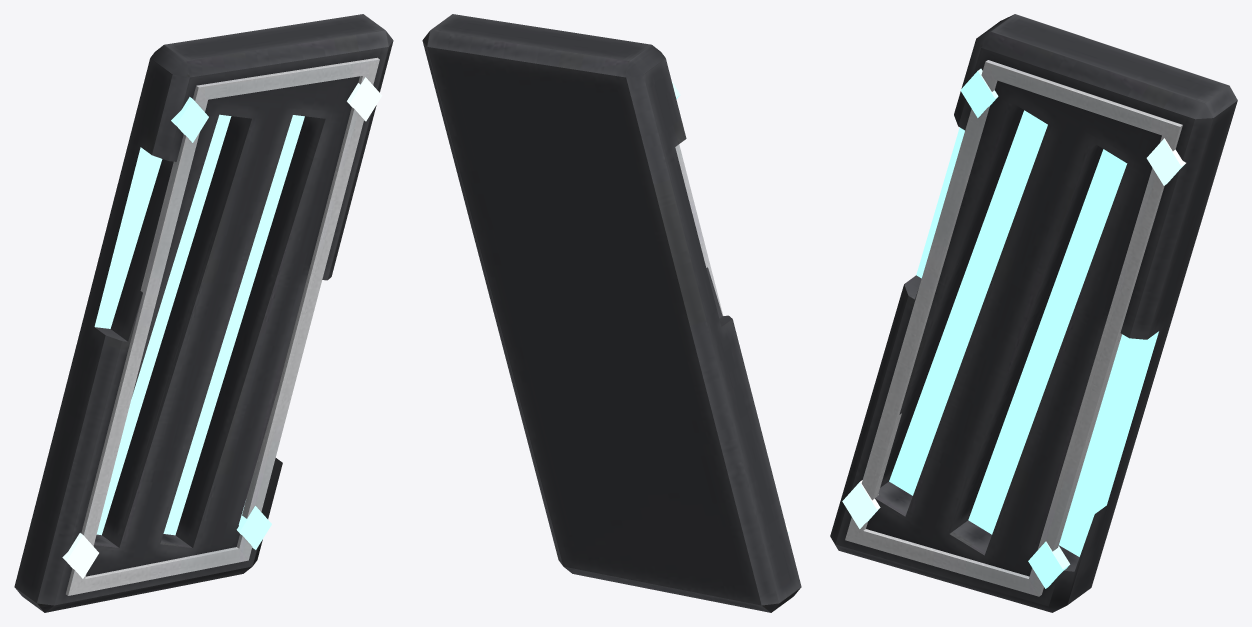
The model's file is wind.glb.
The picture shows the model from 3 angles, left to right: view 1: azimuth 30°, elevation 25°; view 2: azimuth 150°, elevation 25°; view 3: azimuth 330°, elevation 25°; orthographic projection. The views are drawn at different scales.
Visible parts, largest first — view 1: rune_stone, rune_inlay_t3, glow_rune, glow_rune_t2, glow_rune_t3; view 2: rune_stone, rune_inlay_t3; view 3: rune_stone, glow_rune, rune_inlay_t3, glow_rune_t2, glow_rune_t3.
Boxes of the visible parts, x1,y1,x2,y2 form: rune_stone: (14, 14, 393, 612); rune_inlay_t3: (66, 57, 379, 595); glow_rune: (94, 114, 304, 535); glow_rune_t2: (171, 97, 271, 549); glow_rune_t3: (62, 77, 382, 578); rune_stone: (422, 14, 801, 612); rune_inlay_t3: (675, 144, 723, 315); rune_stone: (830, 14, 1237, 612); glow_rune: (889, 110, 1158, 556); rune_inlay_t3: (845, 60, 1182, 596); glow_rune_t2: (960, 68, 1070, 588); glow_rune_t3: (842, 138, 1185, 528).
Bounding box in the file's own units: 0.7069 × 0.9972 × 0.1307.
Materials: 5 (2 with a texture image).
